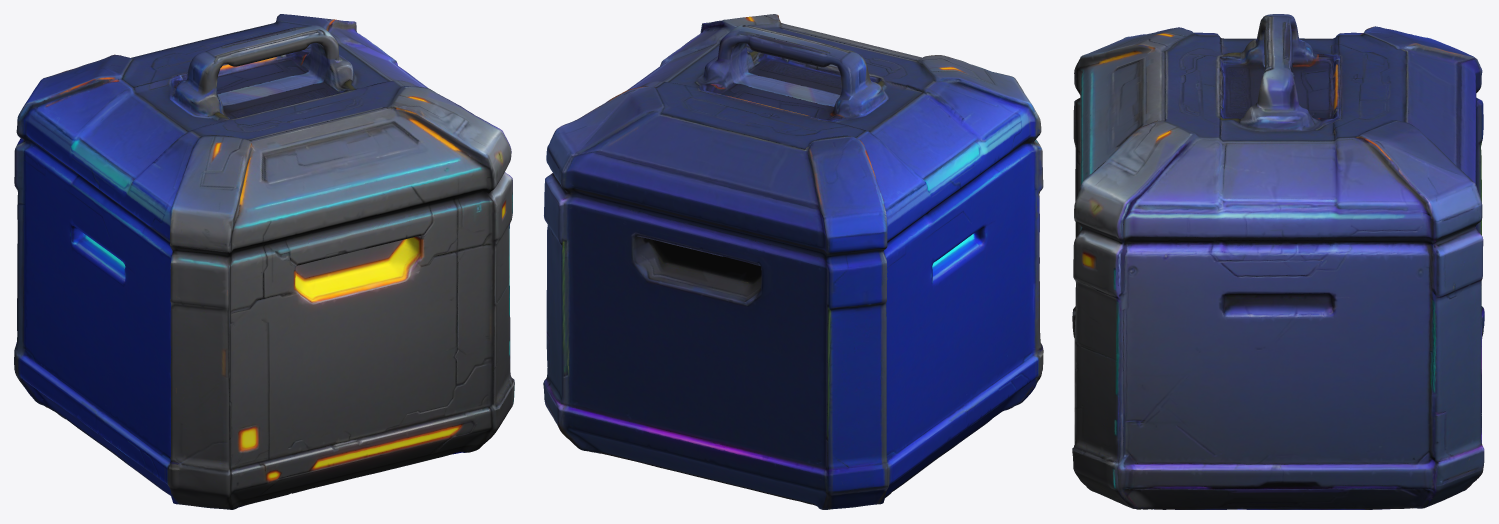
File: lootbox.glb
The picture shows the model from 3 angles, left to right: view 1: azimuth 30°, elevation 25°; view 2: azimuth 150°, elevation 25°; view 3: azimuth 270°, elevation 25°; orthographic projection. The views are drawn at different scales.
Size of the model in its own units: 1.87 by 1.98 by 1.88.
1 material, 1 textured.
